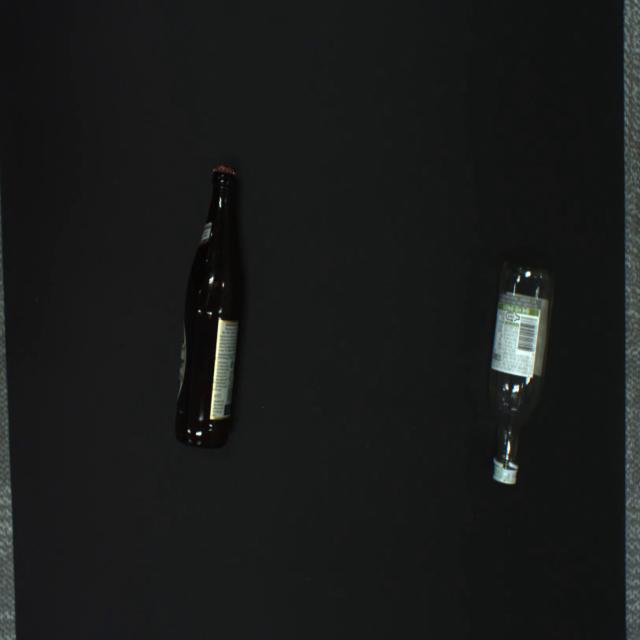beer-bottle: (174, 166, 242, 448)
soju-bottle: (488, 263, 554, 484)
